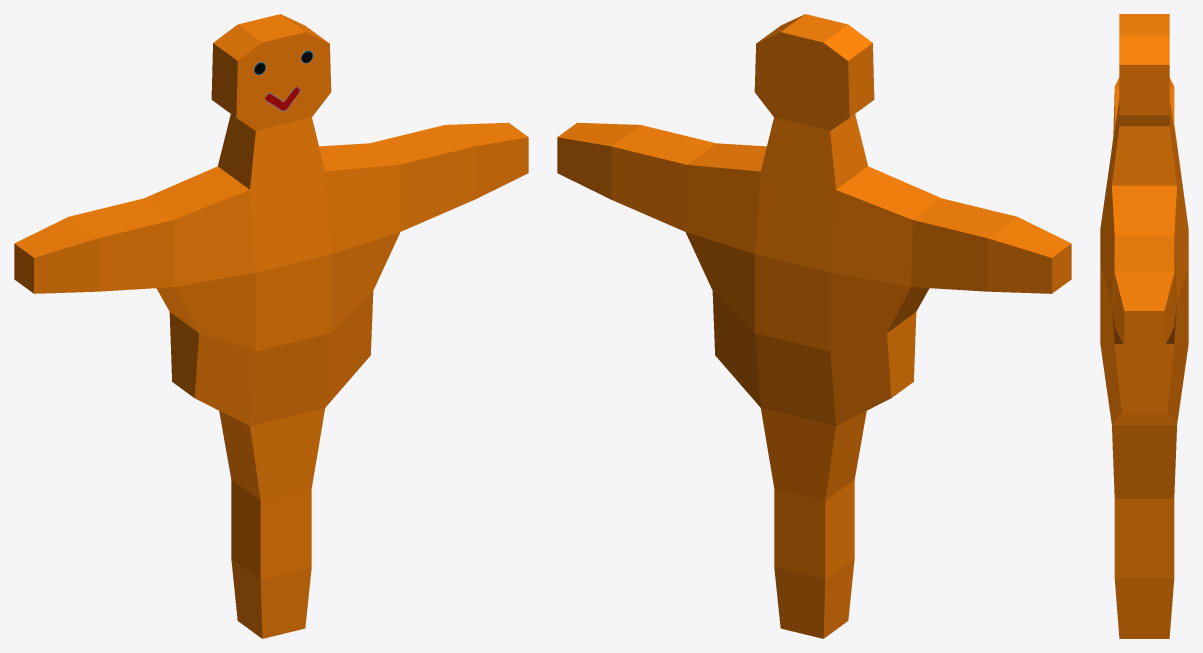
Rendered from Dummy.glb.
The picture shows the model from 3 angles, left to right: view 1: azimuth 30°, elevation 25°; view 2: azimuth 150°, elevation 25°; view 3: azimuth 270°, elevation 25°; orthographic projection.
Visible parts, largest first — view 1: Dummy; view 2: Dummy; view 3: Dummy.
Boxes of the visible parts, left/top/right/bottom form: Dummy: left=14, top=14, right=528, bottom=638; Dummy: left=557, top=14, right=1071, bottom=638; Dummy: left=1100, top=14, right=1188, bottom=638.
Size of the model in its own units: 13.14 by 15.14 by 2.
Materials: 1 (1 with a texture image).
